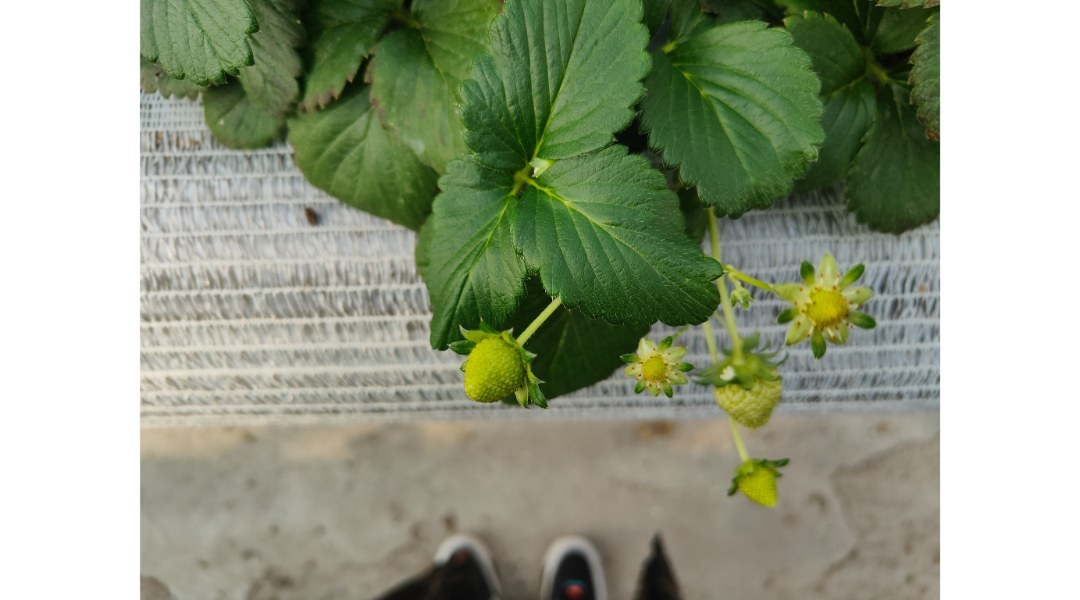berry: (772, 256, 884, 358), (441, 322, 554, 416), (707, 353, 785, 429), (622, 330, 683, 411), (721, 449, 790, 514)
strain: (707, 205, 750, 369), (525, 291, 566, 344)
